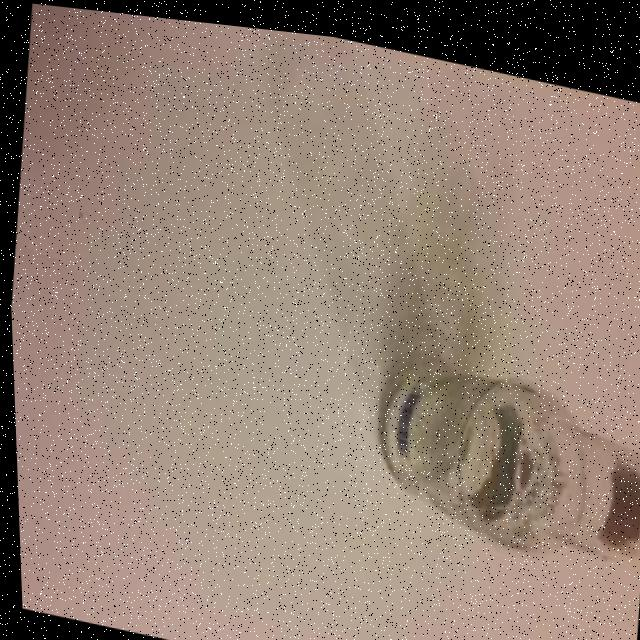glass: (360, 330, 640, 566)
